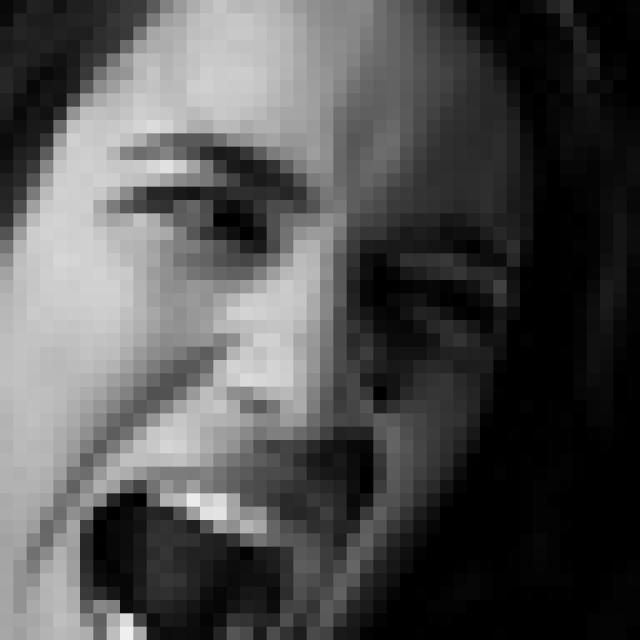angry: (75, 122, 518, 640)
